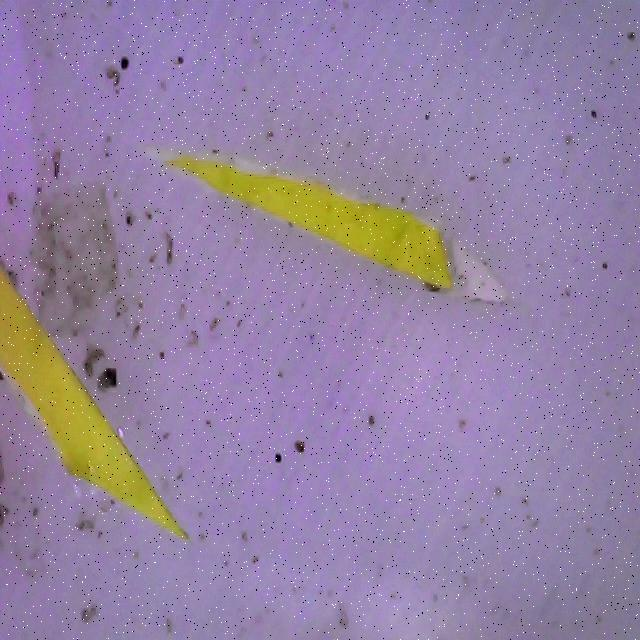fragments: (0, 268, 187, 573), (157, 137, 469, 291)
